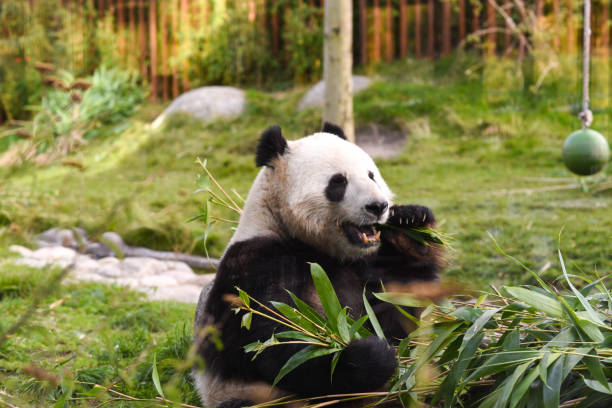panda: (243, 103, 406, 270)
